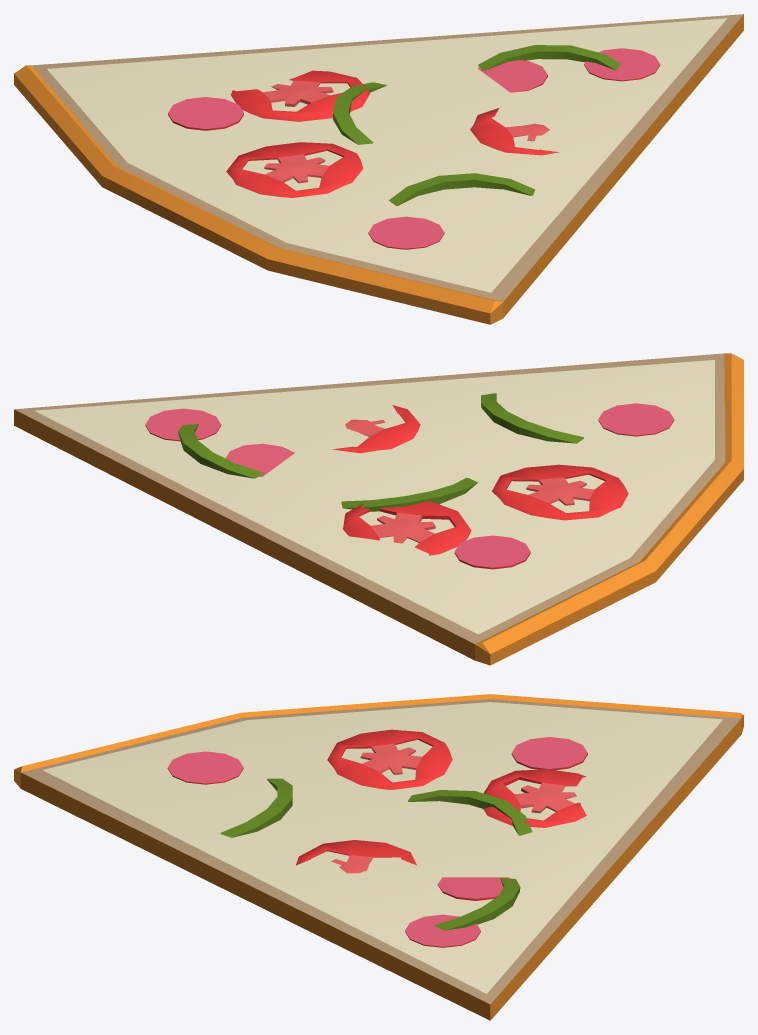
File: SM_PizzaSlice.FBX
3 renders of one model, top to bottom at view 1: azimuth 30°, elevation 25°; view 2: azimuth 150°, elevation 25°; view 3: azimuth 270°, elevation 25°, orthographic.
Parts seen in each view (by area): view 1: PizzaSlice; view 2: PizzaSlice; view 3: PizzaSlice.
Boxes of the visible parts, box(x1,y1,x2,y2) form: PizzaSlice: box(14, 14, 743, 324); PizzaSlice: box(14, 353, 743, 665); PizzaSlice: box(14, 694, 743, 1020).
Size of the model in its own units: 21.83 by 0.8334 by 21.49.
1 material, 1 textured.
